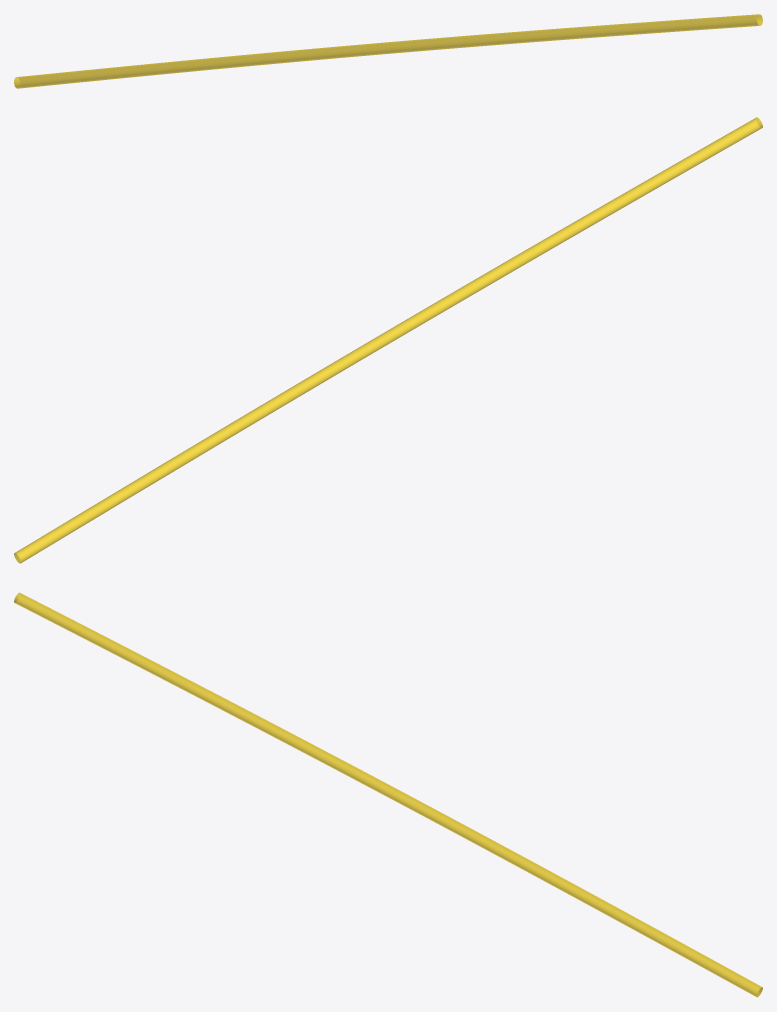
Rendered from Event_17758602_track_125.fbx.
The picture shows the model from 3 angles, top to bottom: view 1: azimuth 90°, elevation 25°; view 2: azimuth 150°, elevation 25°; view 3: azimuth 270°, elevation 25°; orthographic projection. The views are drawn at different scales.
Visible parts, largest first — view 1: Model; view 2: Model; view 3: Model.
Boxes of the visible parts, bbox=[...] form: Model: bbox=[14, 14, 762, 88]; Model: bbox=[14, 117, 762, 563]; Model: bbox=[14, 592, 762, 997].
Bounding box in the file's own units: 1.38 × 0.9006 × 2.56.
